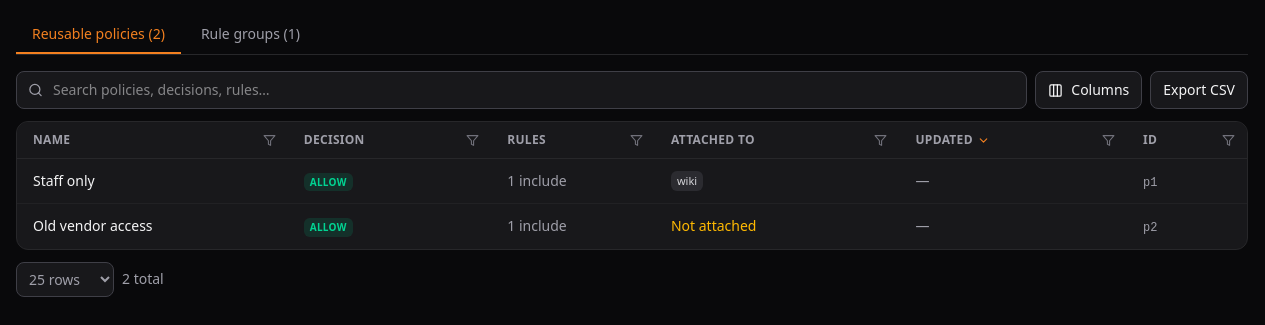
GroupsPage tabs › opens on reusable policies, with rule groups one click away
Expected: the text "Staff only" is shown, [33,171,95,190]
Click the tab "Rule groups (1)" at (250, 35), box [185,16,316,54]
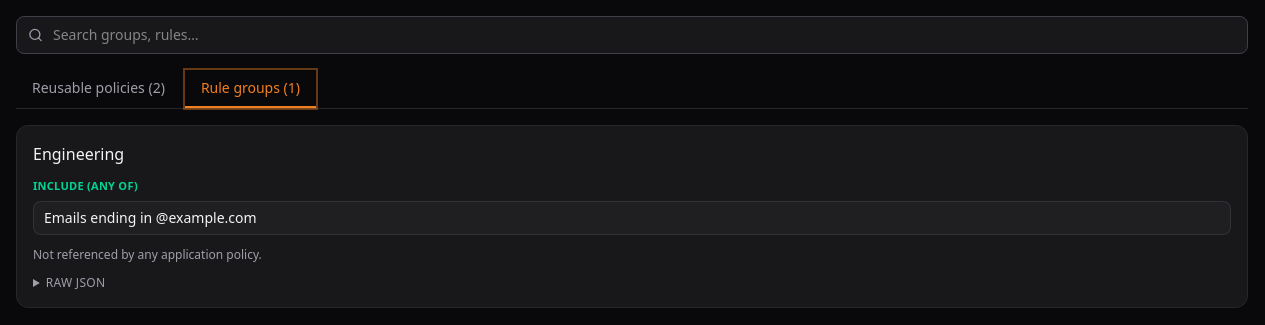
Expected: the heading "Engineering" is shown, [33,142,124,166]
Expected: the text "Staff only" is gone
